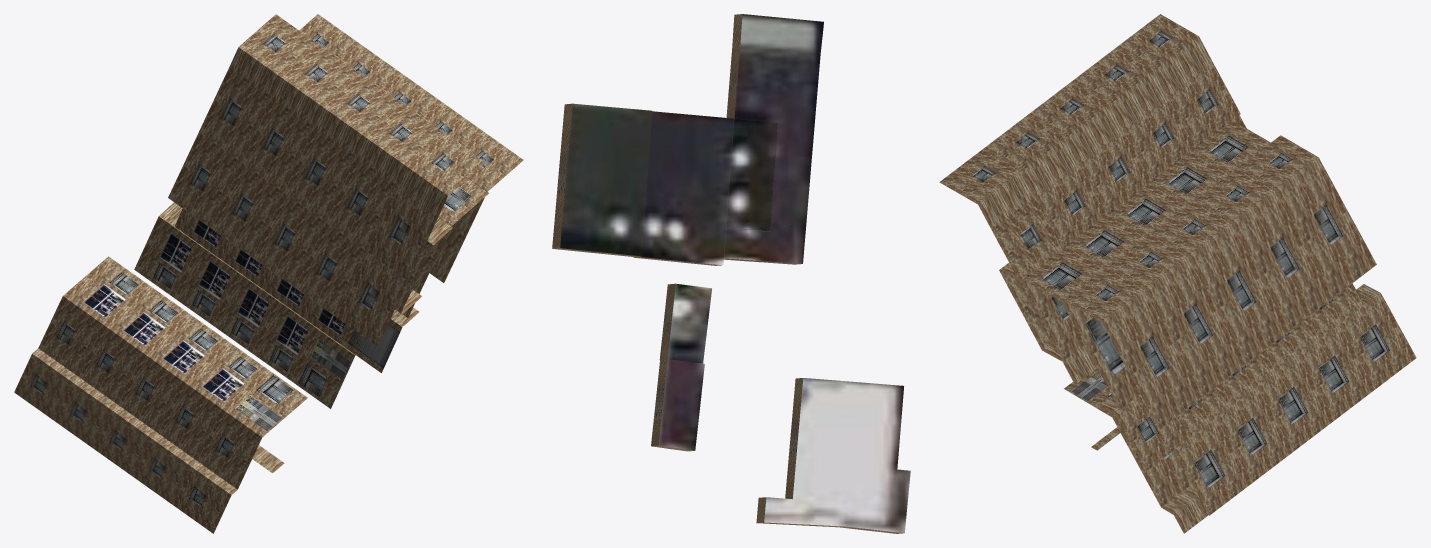
3 views of the same model, side by side, from view 1: azimuth 30°, elevation 25°; view 2: azimuth 150°, elevation 25°; view 3: azimuth 270°, elevation 25° (orthographic). The views are drawn at different scales.
Size of the model in its own units: 29.95 by 32.91 by 27.88.
23 materials, 23 textured.
